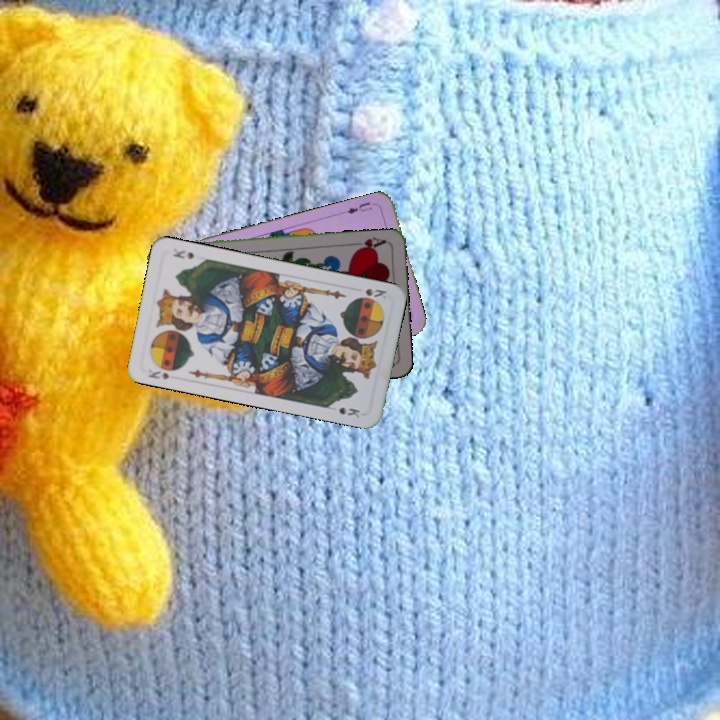EU: (343, 198, 374, 216)
HA: (349, 233, 390, 254)
SK: (361, 284, 389, 303), (144, 365, 172, 382)
